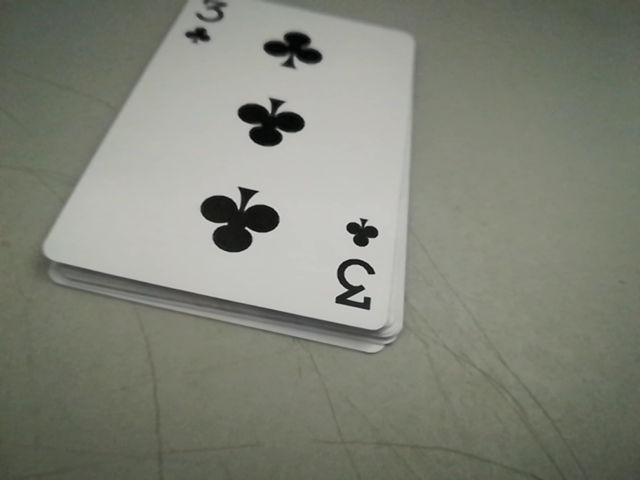mh 3: (328, 213, 389, 316), (174, 0, 228, 58)
